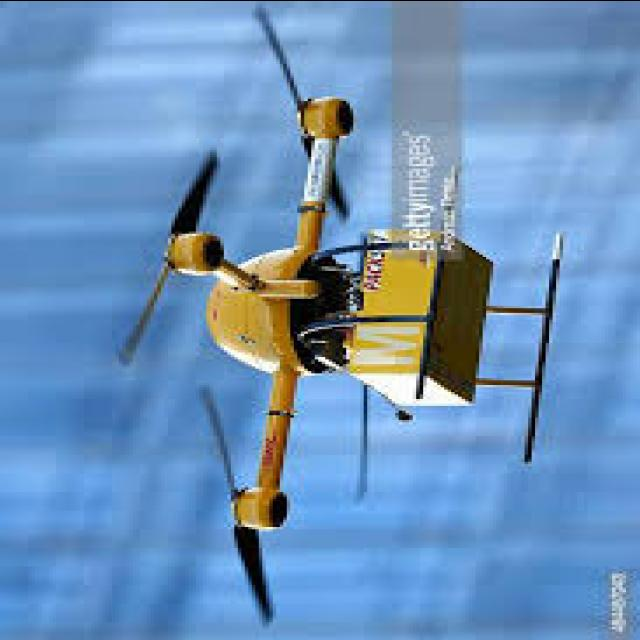drone: (120, 43, 564, 611)
